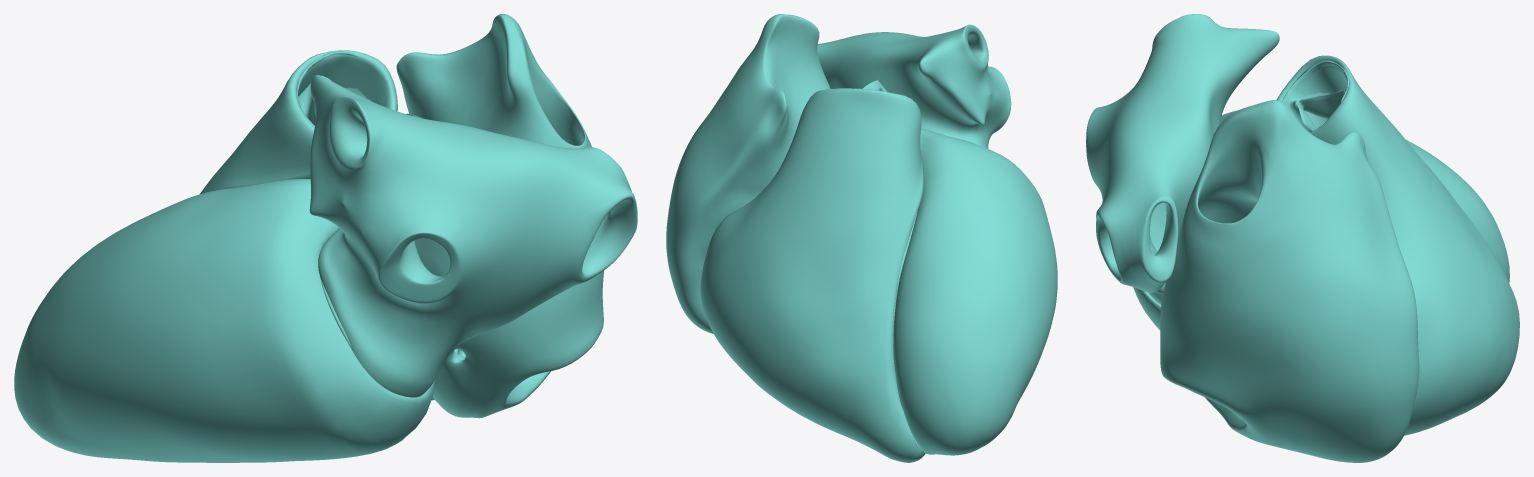
File: comparison_hra_heart.glb
3 views of the same model, side by side, from view 1: azimuth 30°, elevation 25°; view 2: azimuth 150°, elevation 25°; view 3: azimuth 270°, elevation 25° (orthographic). The views are drawn at different scales.
Parts seen in each view (by area): view 1: hra_heart_left_ventricle, hra_left_cardiac_atrium, hra_right_cardiac_atrium, hra_heart_right_ventricle, hra_pulmonary_valve; view 2: hra_heart_right_ventricle, hra_heart_left_ventricle, hra_right_cardiac_atrium, hra_left_cardiac_atrium; view 3: hra_right_cardiac_atrium, hra_heart_right_ventricle, hra_left_cardiac_atrium, hra_heart_left_ventricle, hra_pulmonary_valve, hra_mitral_valve.
Boxes of the visible parts, <box> form: hra_heart_left_ventricle: <box>14,179,434,462</box>; hra_left_cardiac_atrium: <box>309,75,637,397</box>; hra_right_cardiac_atrium: <box>396,14,603,418</box>; hra_heart_right_ventricle: <box>199,50,434,400</box>; hra_pulmonary_valve: <box>296,51,392,127</box>; hra_heart_right_ventricle: <box>700,88,925,462</box>; hra_heart_left_ventricle: <box>893,128,1057,455</box>; hra_right_cardiac_atrium: <box>666,14,830,333</box>; hra_left_cardiac_atrium: <box>817,24,1011,148</box>; hra_right_cardiac_atrium: <box>1160,100,1419,462</box>; hra_heart_right_ventricle: <box>1276,55,1519,435</box>; hra_left_cardiac_atrium: <box>1086,14,1279,304</box>; hra_heart_left_ventricle: <box>1133,110,1509,330</box>; hra_pulmonary_valve: <box>1282,60,1348,132</box>; hra_mitral_valve: <box>1150,202,1166,251</box>.
Bounding box in the file's own units: 12.44 × 10.54 × 10.52.
